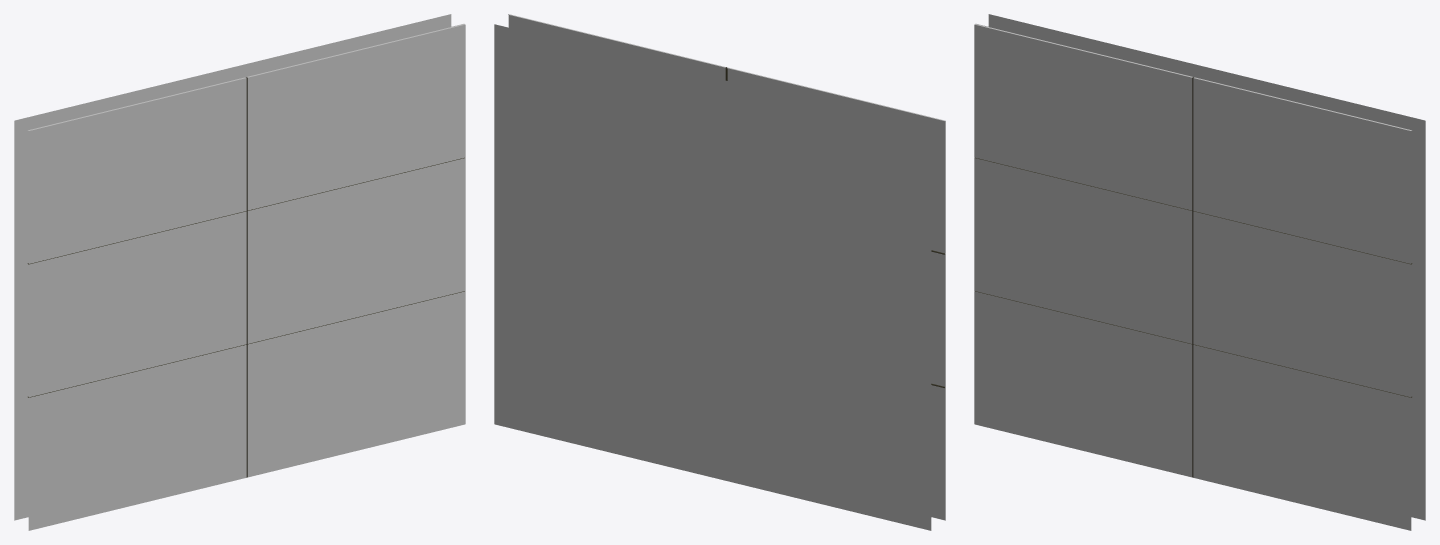
Rendered from wall.fbx.
The picture shows the model from 3 angles, left to right: view 1: azimuth 30°, elevation 25°; view 2: azimuth 150°, elevation 25°; view 3: azimuth 330°, elevation 25°; orthographic projection.
Visible parts, largest first — view 1: wall_outside, wall_inside, wall_outside_in; view 2: wall_inside, wall_outside; view 3: wall_outside, wall_inside, wall_outside_in.
Part boxes in pixels (x1,y1,x2,y2): wall_outside: (28, 24, 465, 530); wall_inside: (14, 14, 451, 520); wall_outside_in: (27, 77, 464, 477); wall_inside: (494, 24, 931, 530); wall_outside: (508, 14, 945, 520); wall_outside: (974, 24, 1411, 530); wall_inside: (988, 14, 1425, 520); wall_outside_in: (975, 77, 1412, 477).
Bounding box in the file's own units: 320 × 280 × 18.
